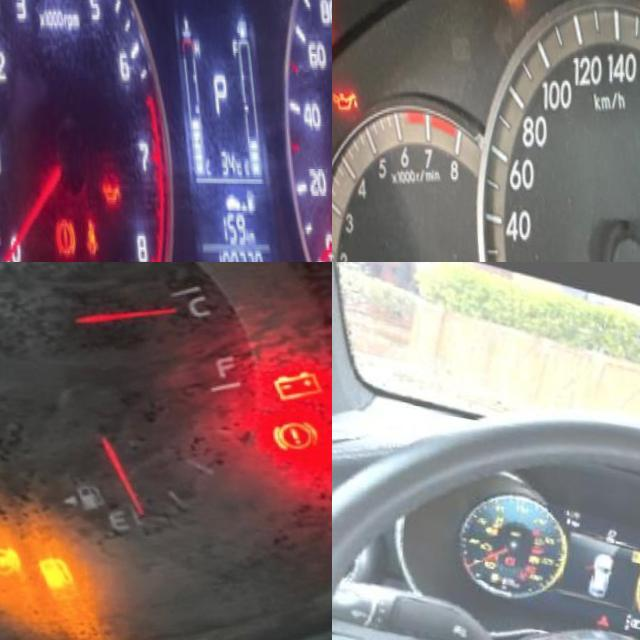Low fuel level: (483, 573, 493, 583)
